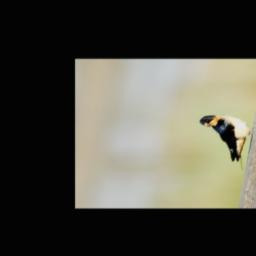Swallow: (190, 113, 256, 171)
